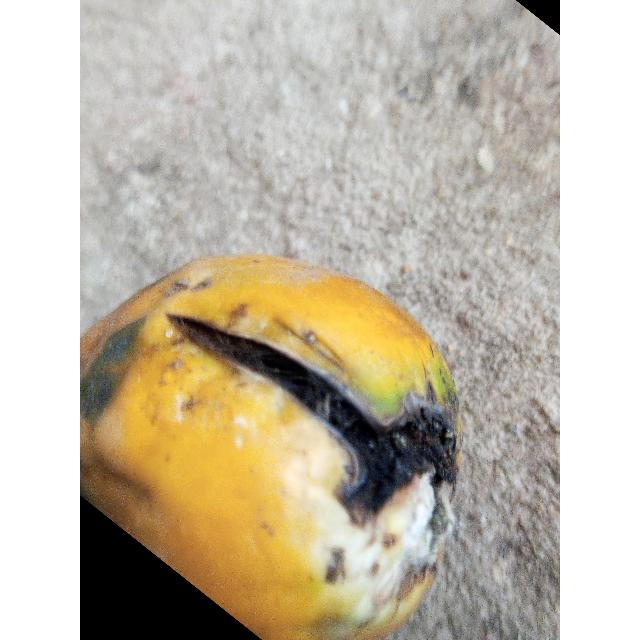damaged: (80, 255, 461, 640)
